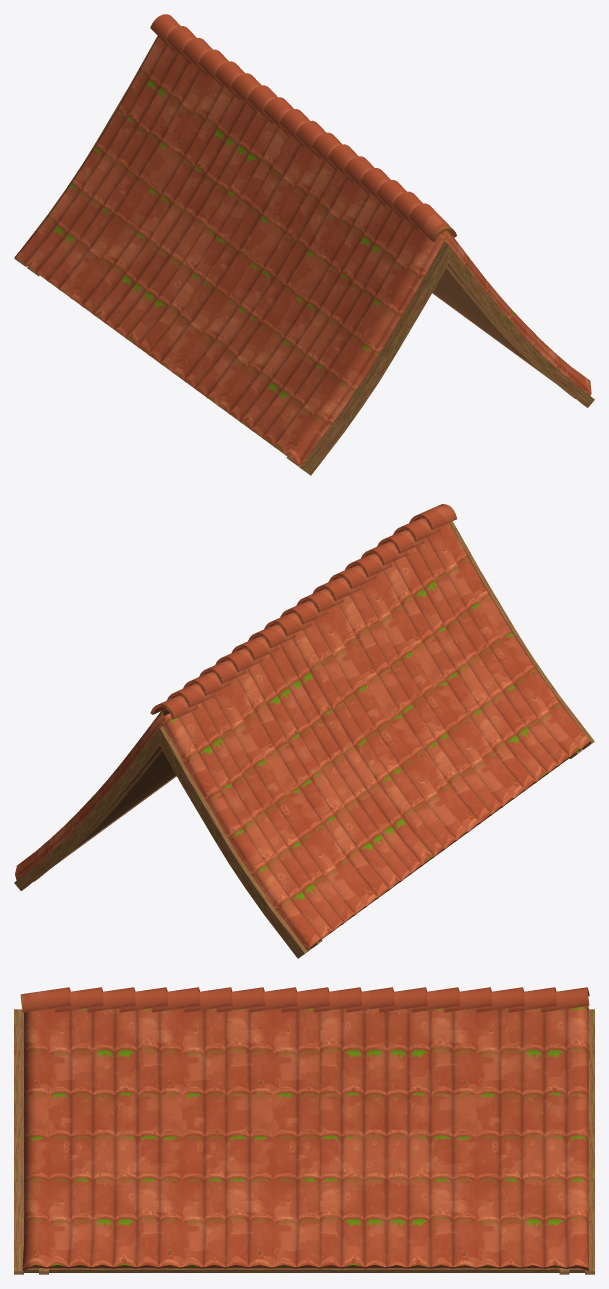
Rendered from Roof_RoundTiles_6x12.gltf.
3 renders of one model, top to bottom at view 1: azimuth 30°, elevation 25°; view 2: azimuth 150°, elevation 25°; view 3: azimuth 270°, elevation 25°, orthographic.
Parts seen in each view (by area): view 1: Roof_RoundTiles_6x12; view 2: Roof_RoundTiles_6x12; view 3: Roof_RoundTiles_6x12.
Boxes of the visible parts, x1,y1,x2,y2 form: Roof_RoundTiles_6x12: [14, 14, 594, 475]; Roof_RoundTiles_6x12: [14, 504, 594, 958]; Roof_RoundTiles_6x12: [14, 987, 594, 1274].
Bounding box in the file's own units: 8.25 × 5.67 × 13.66.
2 materials, 2 textured.
